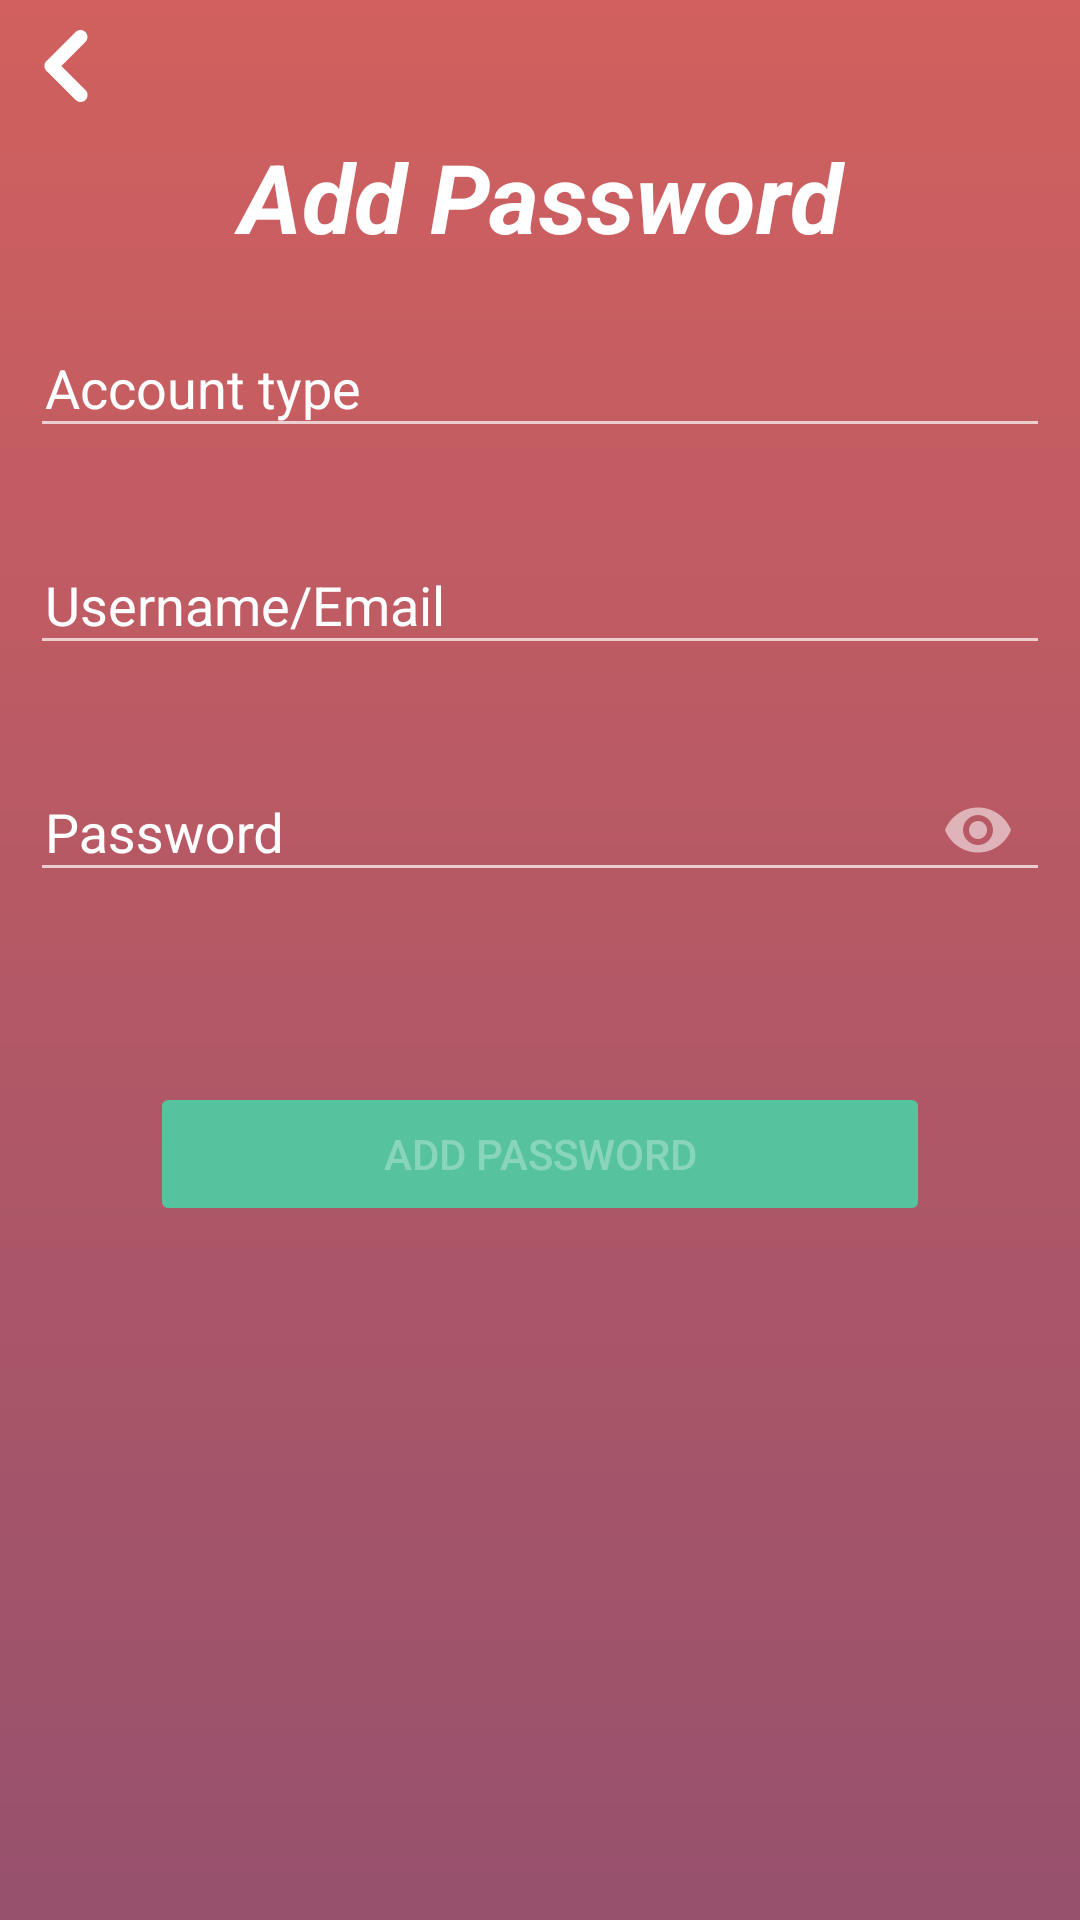

Named icons in this screenshot (1080 x 1920) and their bounding boxes, {"x1": x1, "y1": y1, "x2": x2, "y2": y2}:
back: {"x1": 44, "y1": 30, "x2": 88, "y2": 102}
